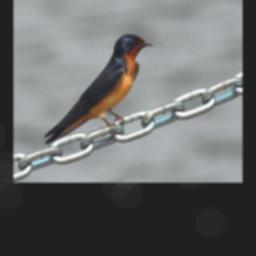Swallow: (44, 33, 155, 147)
